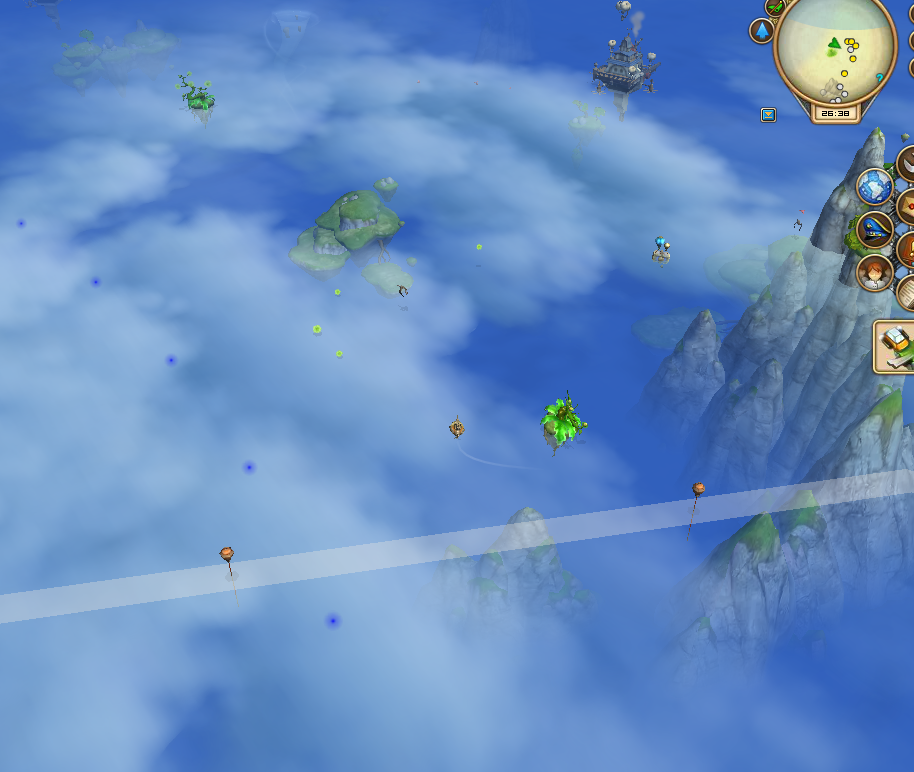dandelion-empty: (537, 385, 592, 454)
dandelion-full: (171, 66, 215, 123)
fluff: (310, 321, 323, 336), (472, 240, 485, 254), (332, 347, 346, 360), (331, 286, 344, 299)
